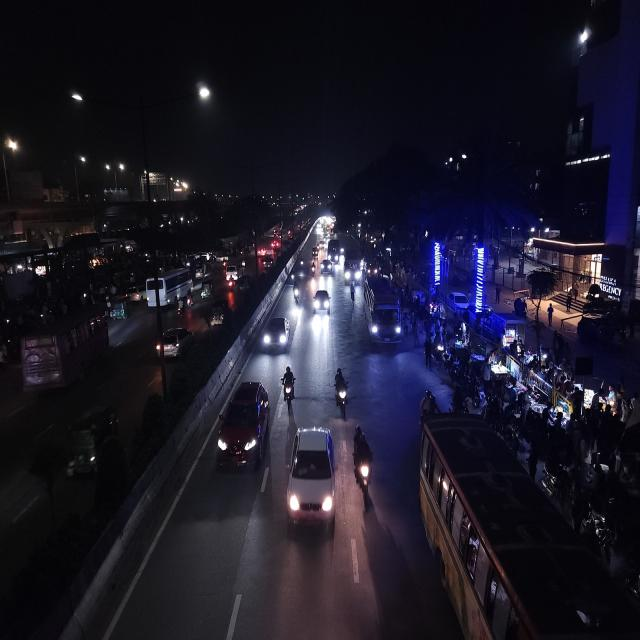bicycle: (349, 284, 357, 306)
bus: (418, 410, 636, 640), (19, 306, 111, 394), (361, 272, 403, 354), (144, 266, 194, 309), (342, 240, 362, 288), (327, 237, 341, 265)
car: (214, 376, 272, 480), (286, 422, 336, 538), (154, 324, 194, 364), (260, 311, 292, 357), (447, 286, 473, 318), (312, 285, 332, 317), (224, 263, 239, 287), (320, 258, 334, 280), (258, 244, 267, 258), (263, 257, 273, 269)
cng: (63, 399, 121, 483), (207, 299, 229, 331), (110, 296, 130, 322), (200, 277, 214, 301), (311, 245, 318, 259)
motorcycle: (351, 422, 376, 505), (332, 365, 351, 418), (281, 363, 297, 405), (175, 293, 191, 317), (179, 289, 195, 312), (292, 280, 302, 308), (310, 261, 316, 280), (298, 256, 306, 270)
